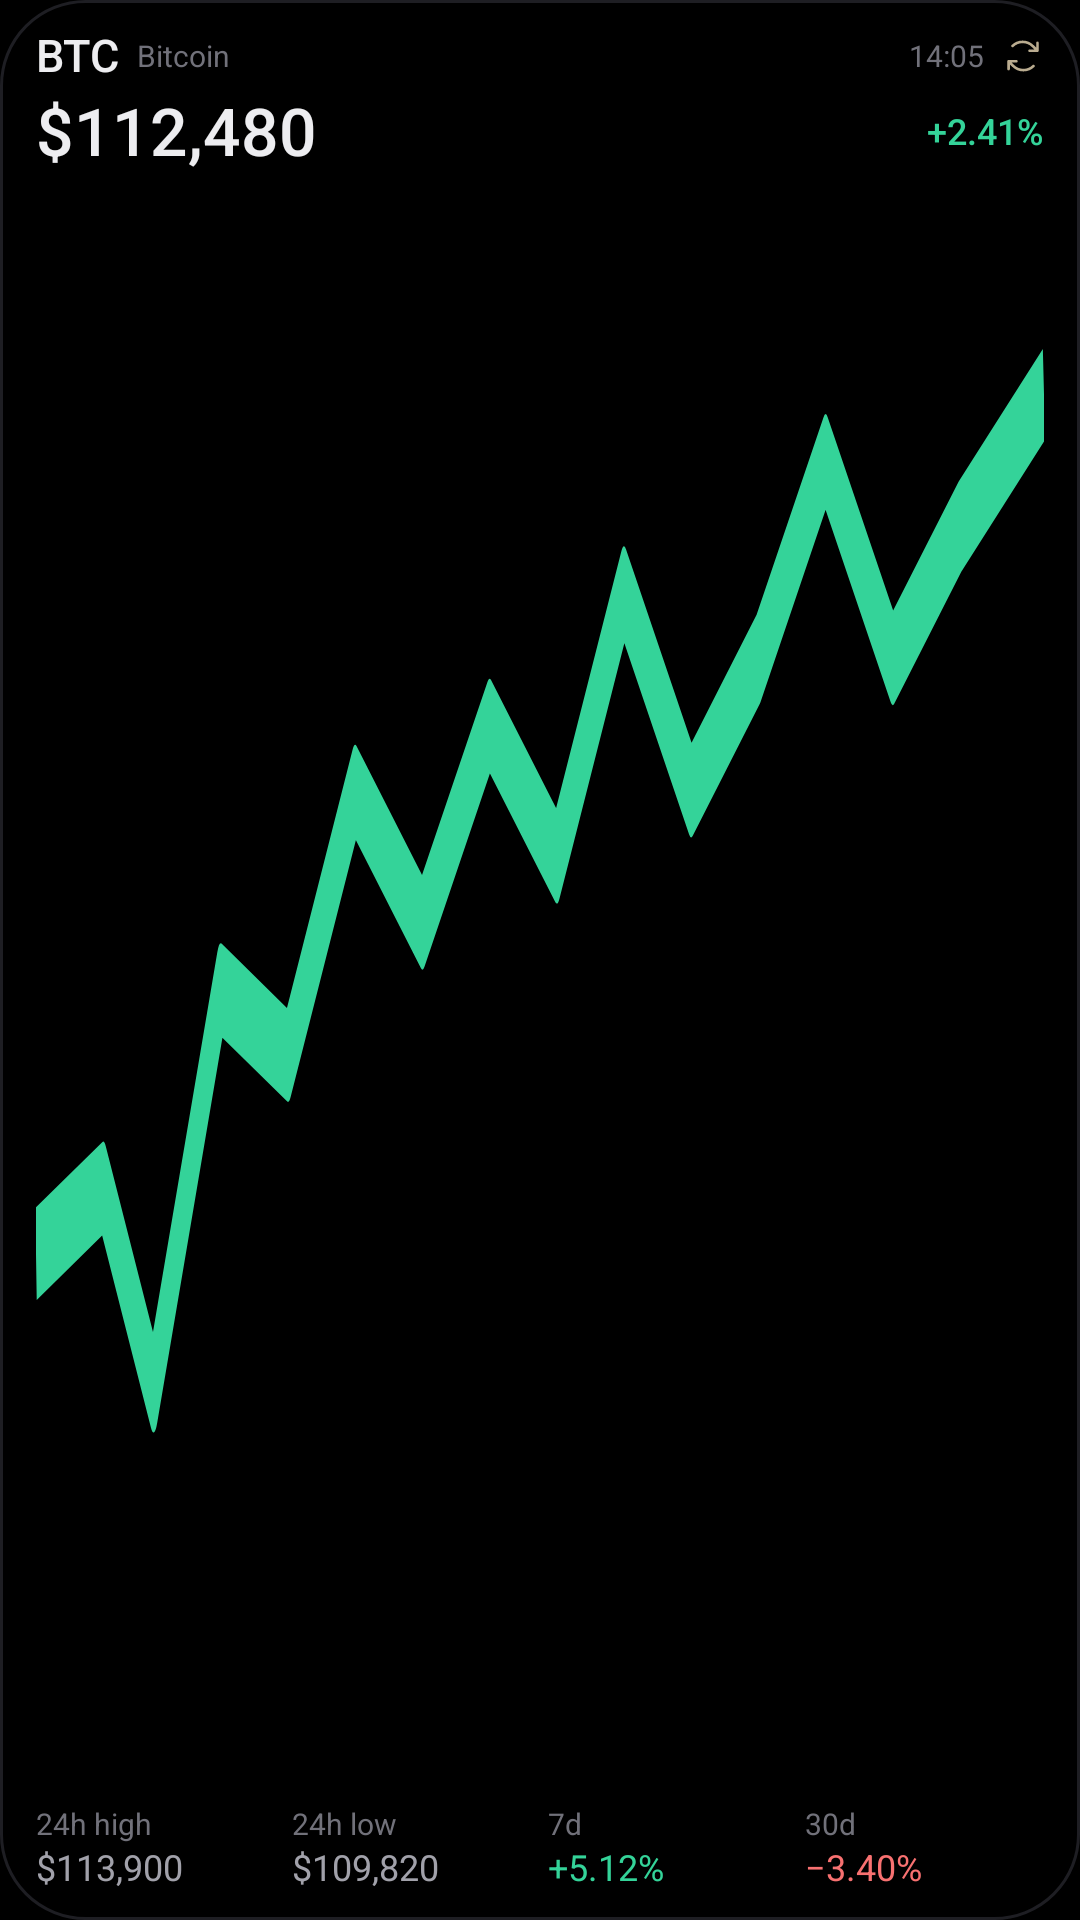

Locate icon controls on the screen. Image size 1080x1920, boxes as [x1=x1, y1=y1, x2=x2, y2=y2].
widget refresh: [x1=1007, y1=40, x2=1039, y2=72]
